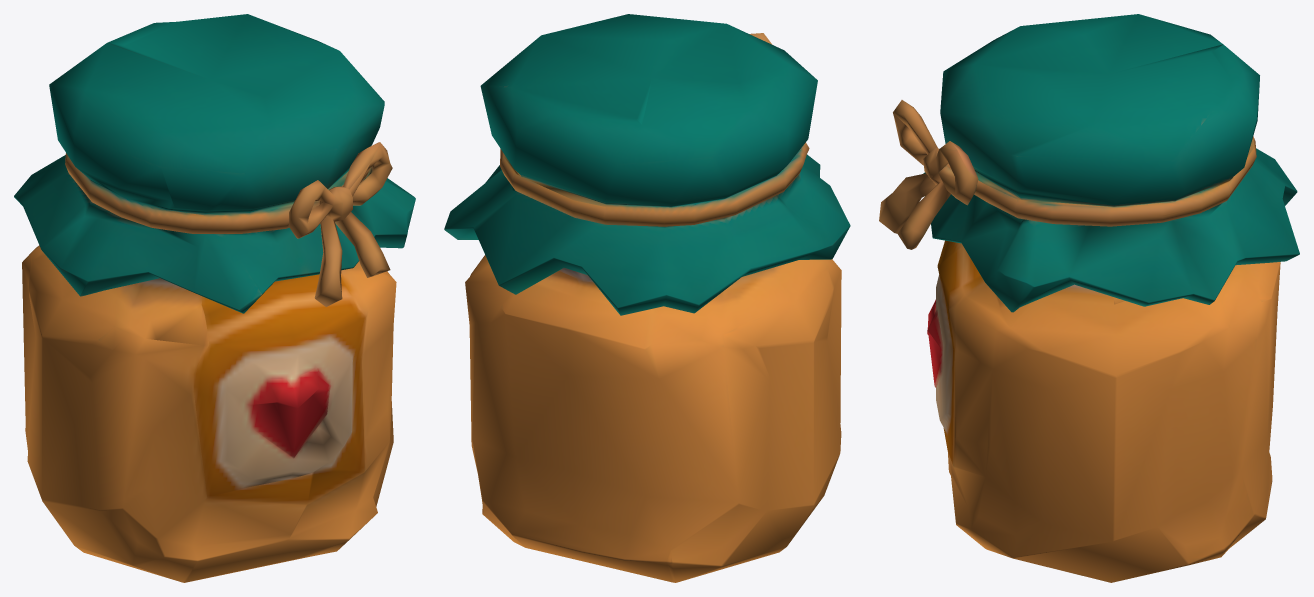
Rendered from kavanoz.glb.
The picture shows the model from 3 angles, left to right: view 1: azimuth 30°, elevation 25°; view 2: azimuth 150°, elevation 25°; view 3: azimuth 270°, elevation 25°; orthographic projection.
Visible parts, largest first — view 1: material; view 2: material; view 3: material.
Boxes of the visible parts, left/top/right/bottom form: material: left=14, top=14, right=415, bottom=582; material: left=444, top=14, right=850, bottom=582; material: left=879, top=14, right=1299, bottom=582.
Bounding box in the file's own units: 1.48 × 1.9 × 1.61.
1 material, 1 textured.
